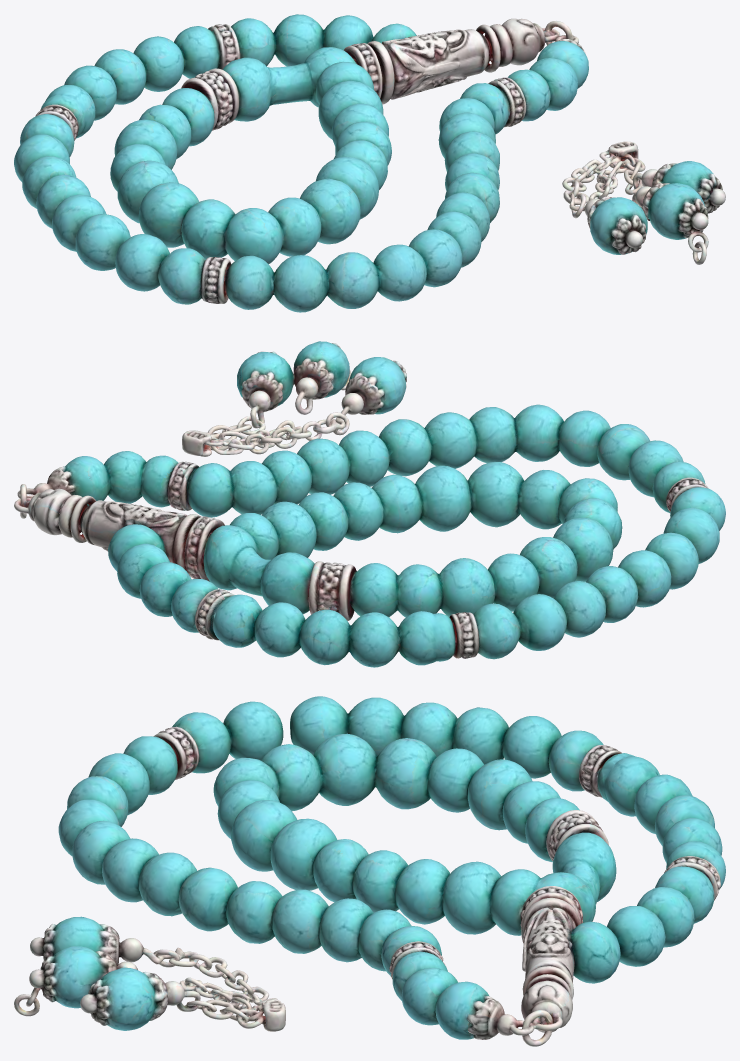
The model's file is tasbih-02-turquoise-silver.glb.
3 views of the same model, one above another, from view 1: azimuth 30°, elevation 25°; view 2: azimuth 150°, elevation 25°; view 3: azimuth 270°, elevation 25° (orthographic). The views are drawn at different scales.
Visible parts, largest first — view 1: mesh_node; view 2: mesh_node; view 3: mesh_node.
Part boxes in pixels (x1,y1,x2,y2): mesh_node: (14, 14, 725, 312); mesh_node: (14, 341, 725, 667); mesh_node: (14, 696, 725, 1046).
Bounding box in the file's own units: 1.9 × 0.2105 × 1.8.
Materials: 1 (1 with a texture image).
